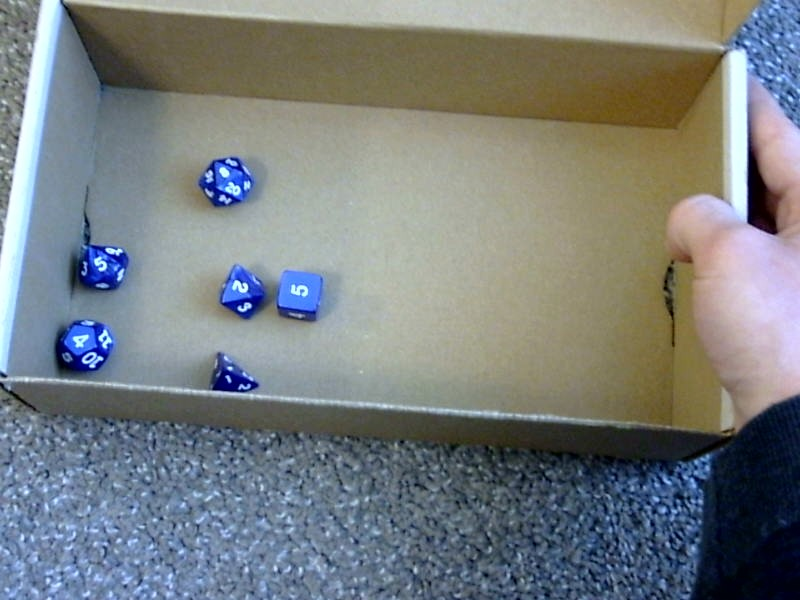d10 5: (76, 239, 128, 291)
d12 4: (53, 314, 115, 374)
d20 8: (193, 151, 254, 211)
d4 1: (202, 350, 258, 393)
d6 5: (278, 263, 322, 324)
d8 2: (213, 258, 266, 318)
